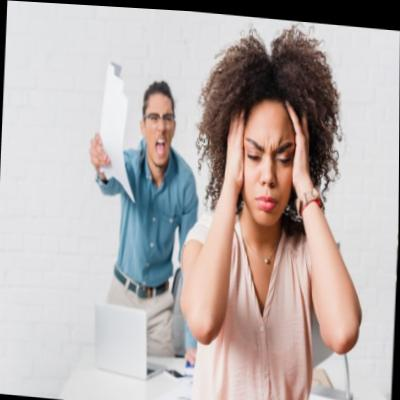angry: (238, 105, 296, 225), (141, 94, 175, 165)
